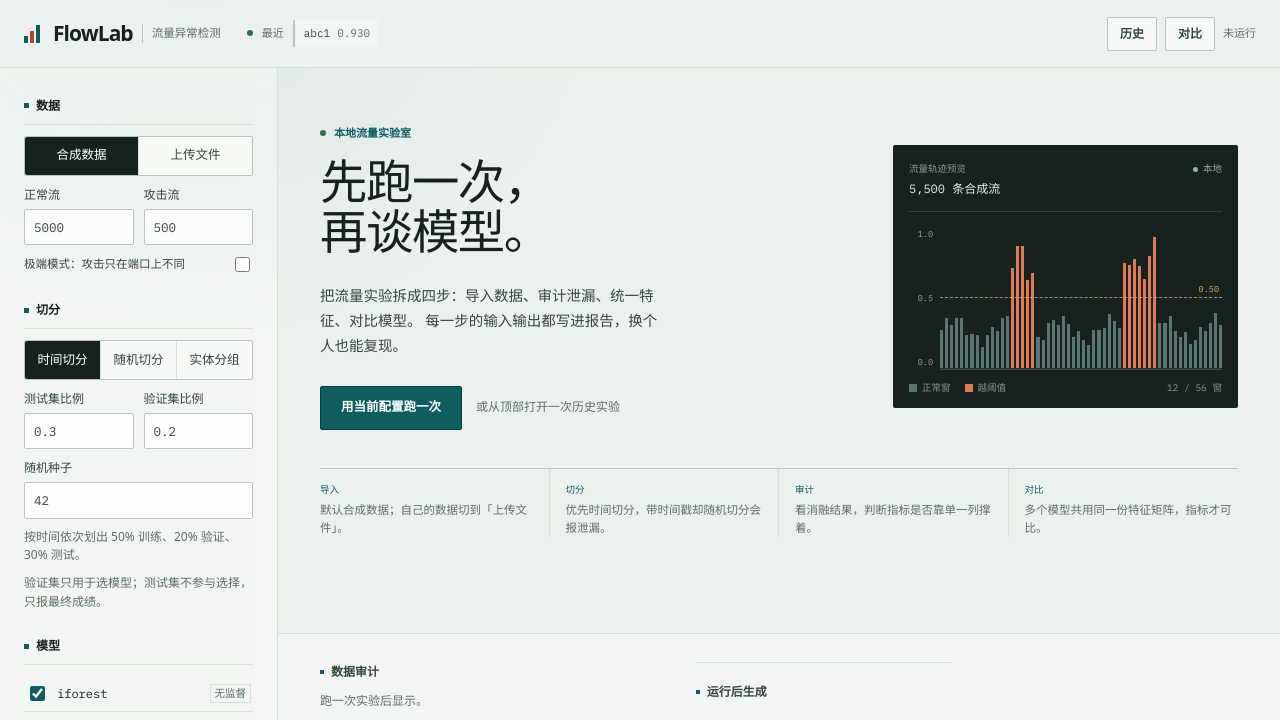
Test: App history restore › shows a failed run outside the mobile configuration drawer
Click the button "用当前配置跑一次": point(391, 408) [320, 386, 462, 430]
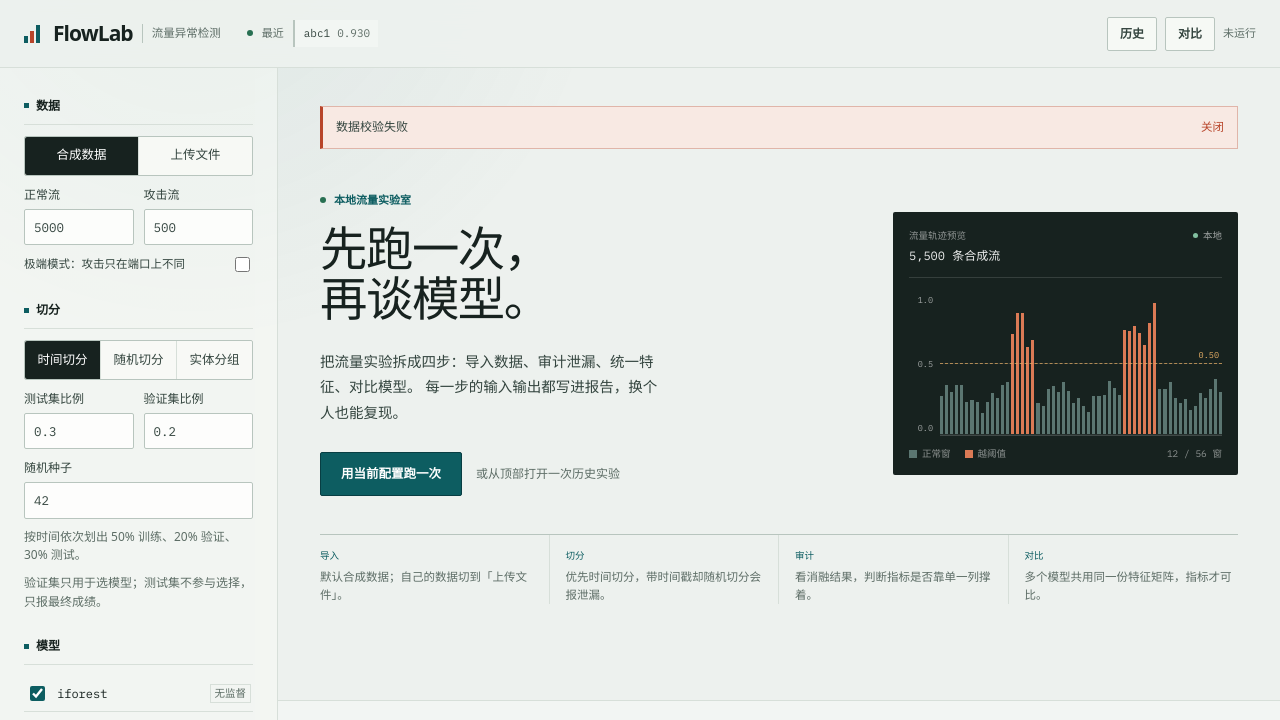
Expected: the button with aria-label "关闭错误提示" is shown, [1201, 118, 1224, 136]
